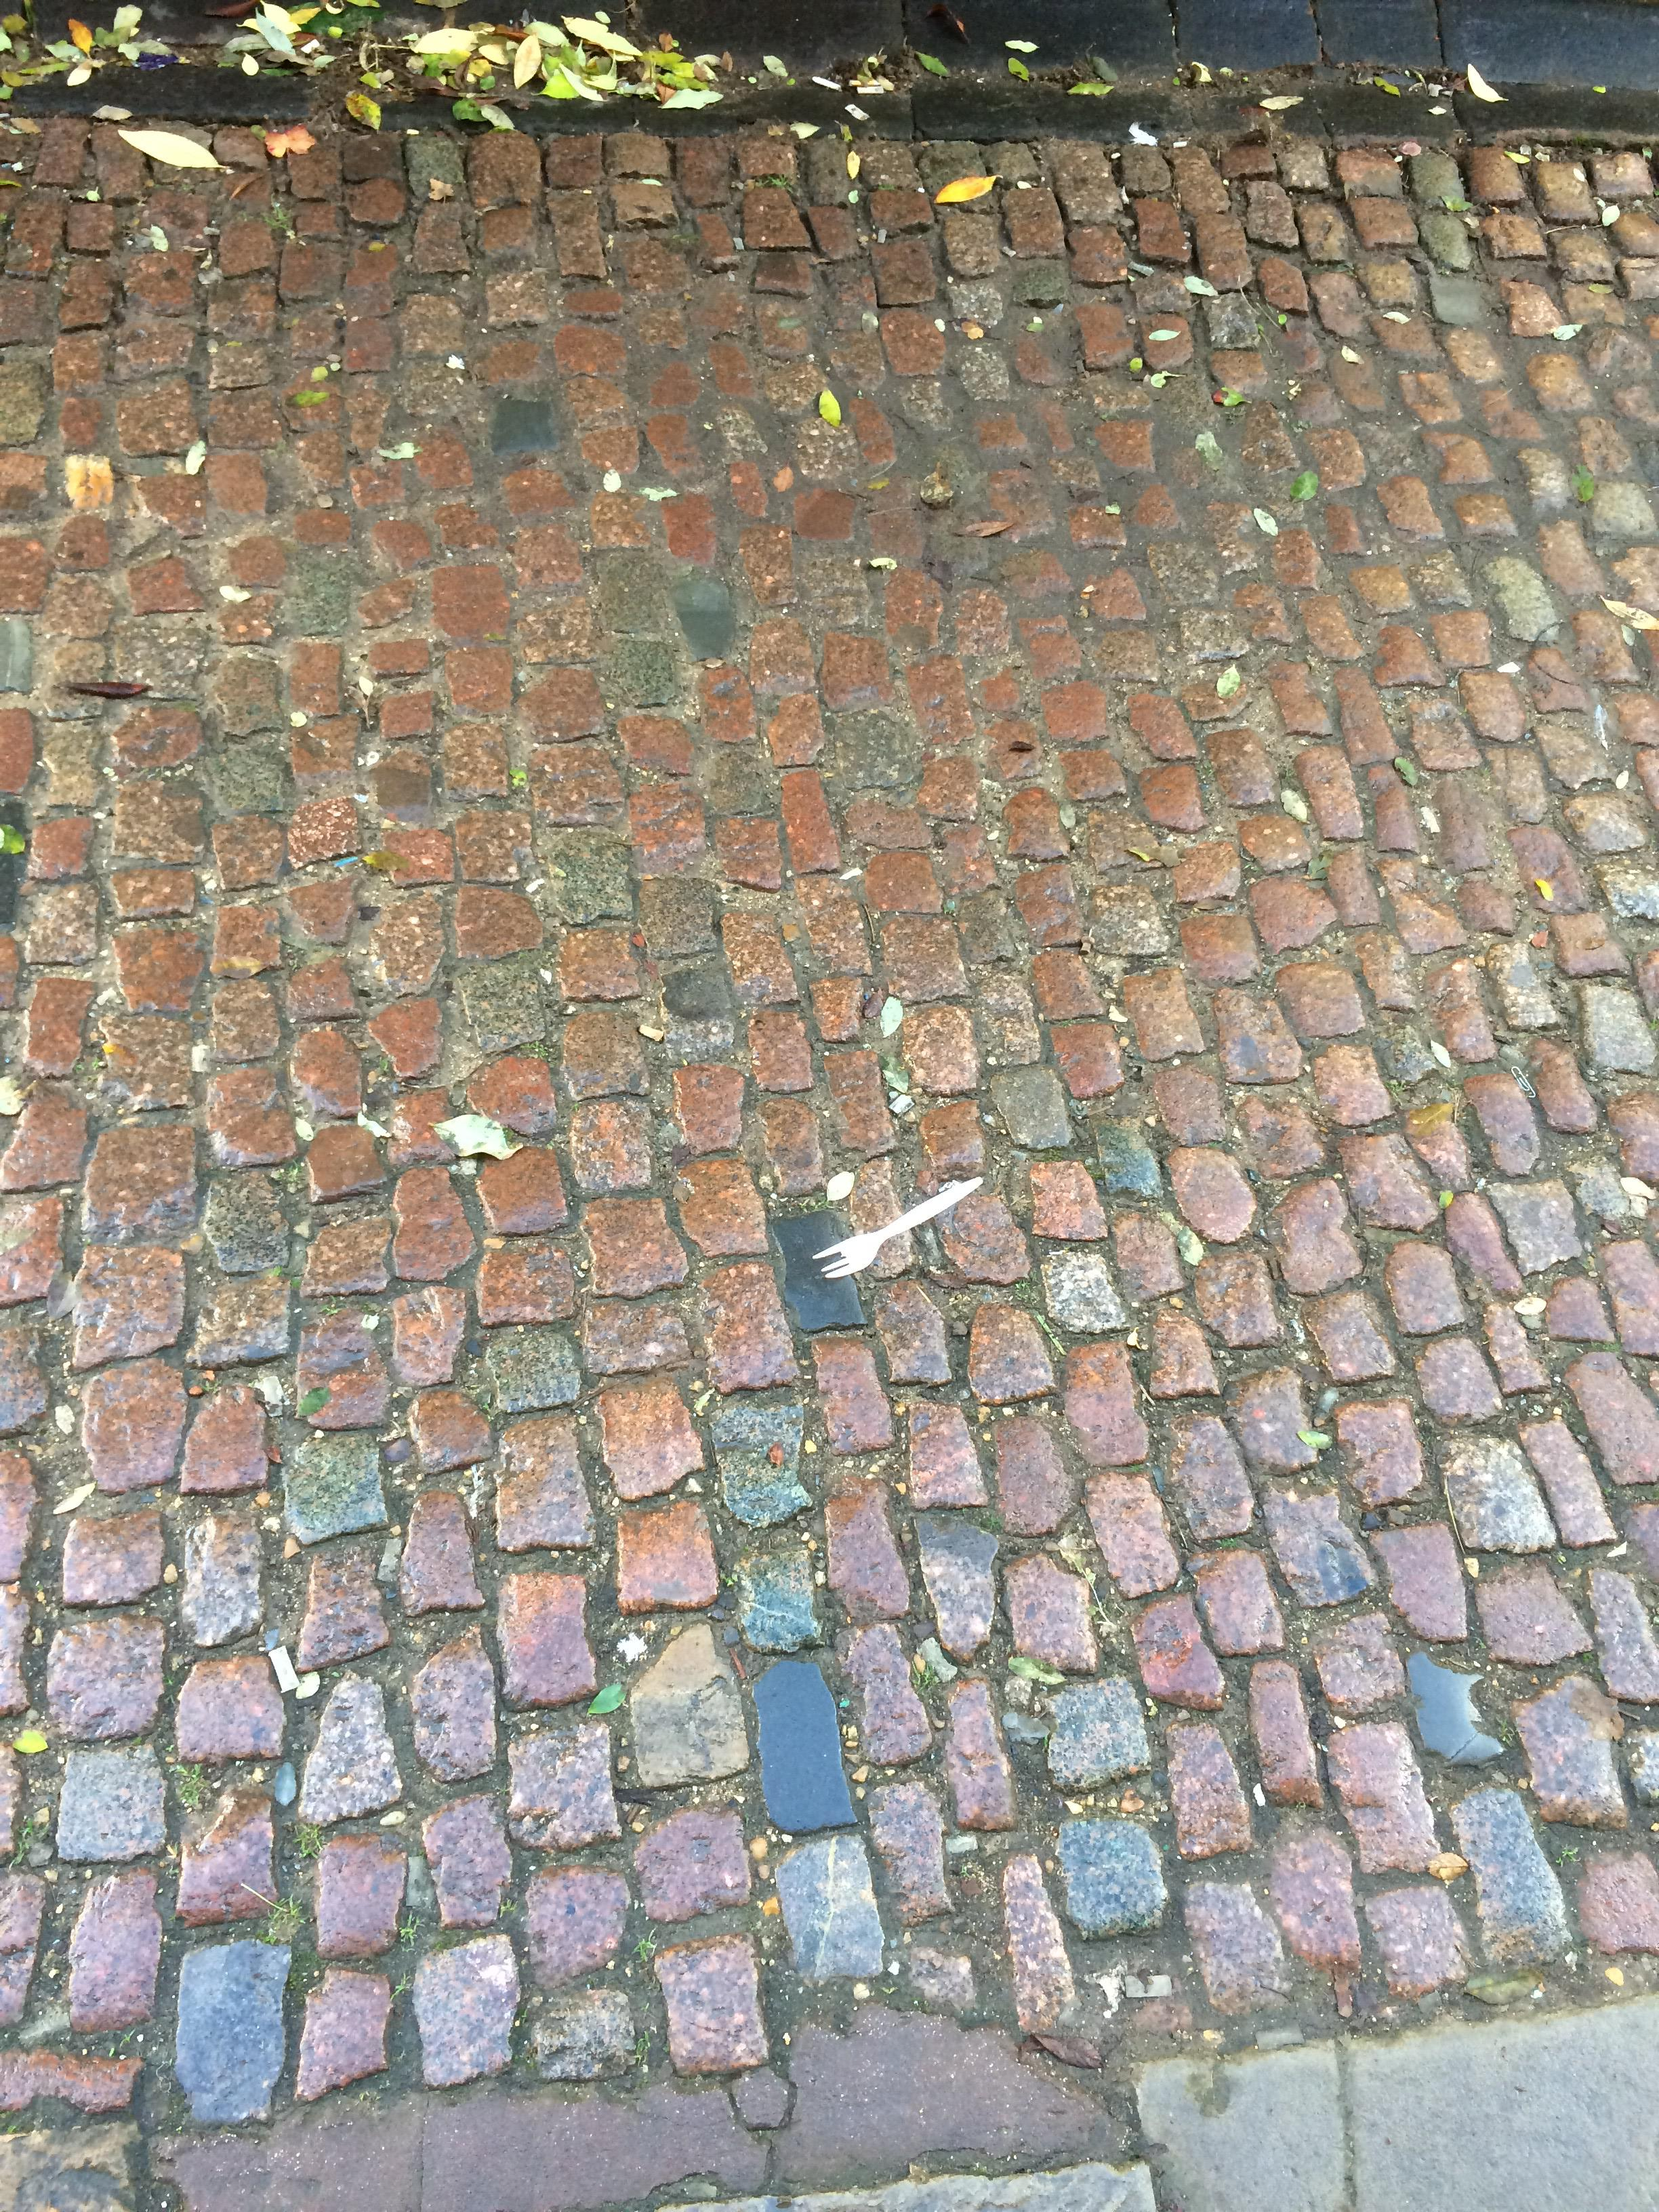Trash: (817, 1174, 985, 1282)
